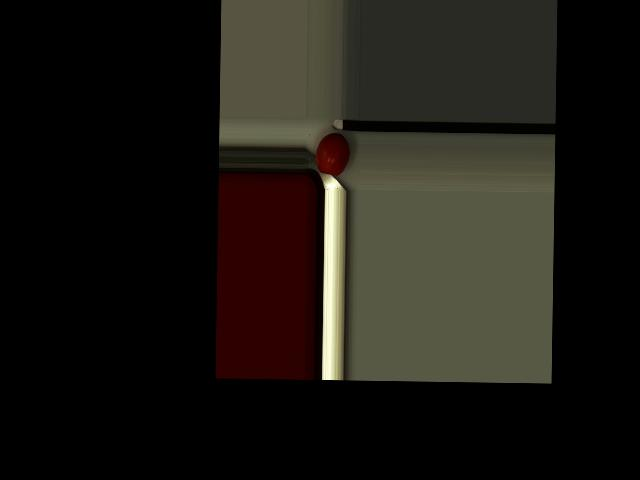tomato: (315, 133, 350, 176)
